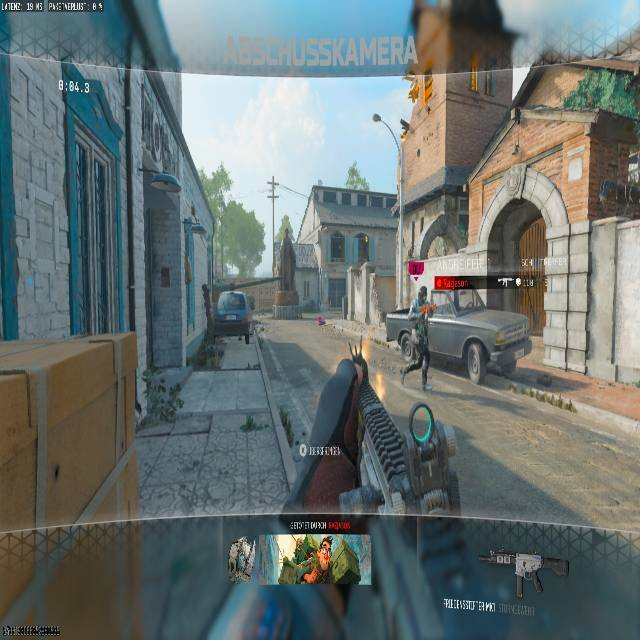head: (418, 285, 427, 297)
player: (398, 286, 435, 389), (394, 324, 429, 389), (410, 287, 434, 324)
